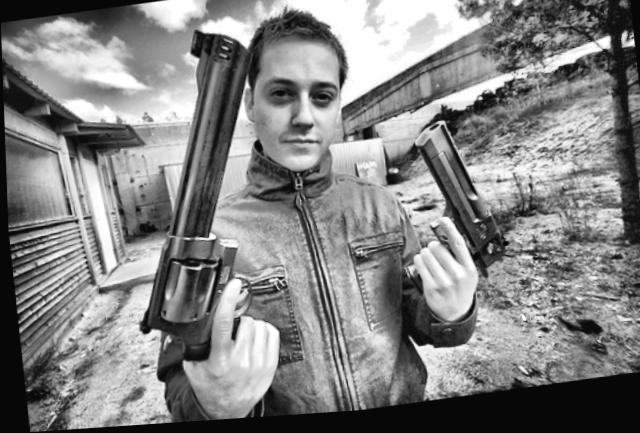pistol: (108, 21, 284, 373), (386, 115, 504, 305)
